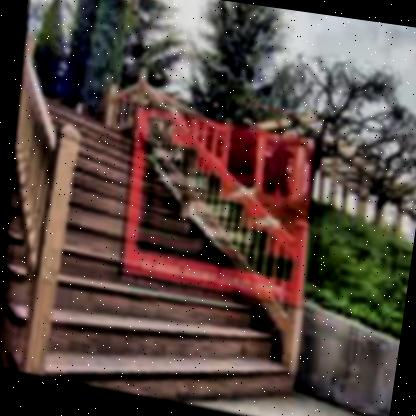stair: (9, 106, 280, 416)
